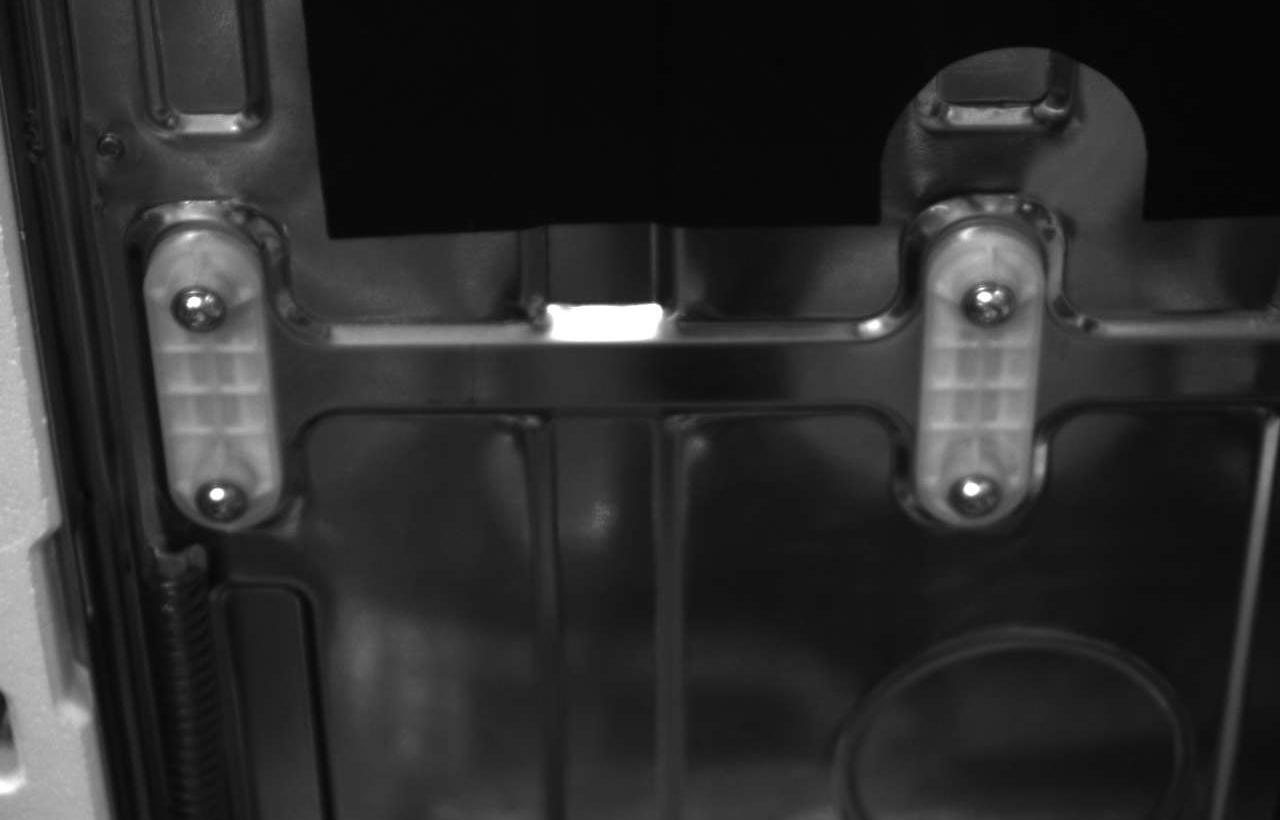vida-ok: (156, 272, 242, 350), (943, 261, 1030, 333), (180, 472, 257, 537), (940, 466, 1015, 525)
